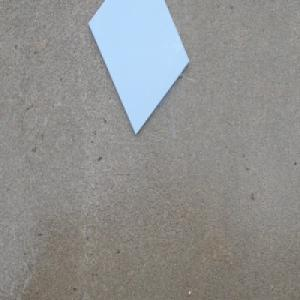PaintChip: (87, 0, 190, 138)
